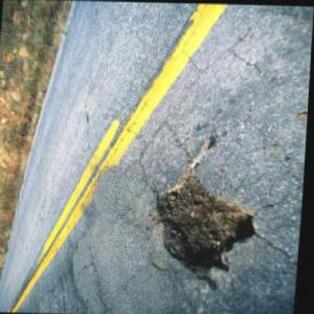Hueco: (149, 164, 267, 292)
